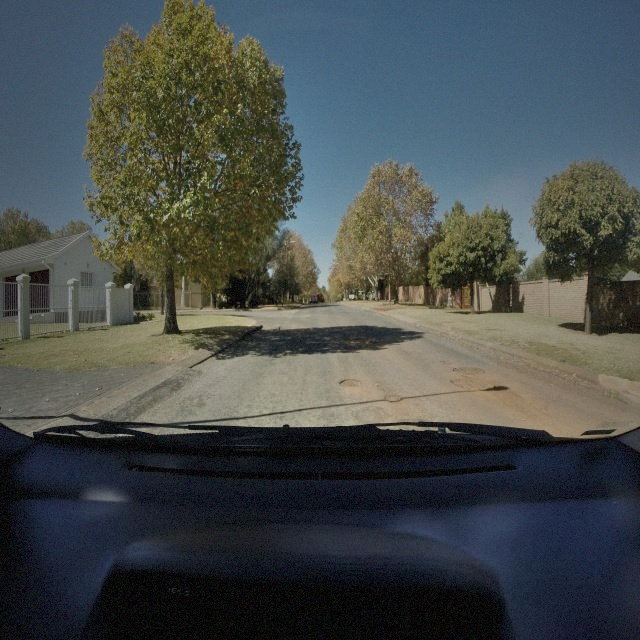pothole: (450, 378, 499, 390), (452, 367, 485, 377), (338, 377, 363, 390), (384, 394, 403, 403), (440, 357, 454, 367)
